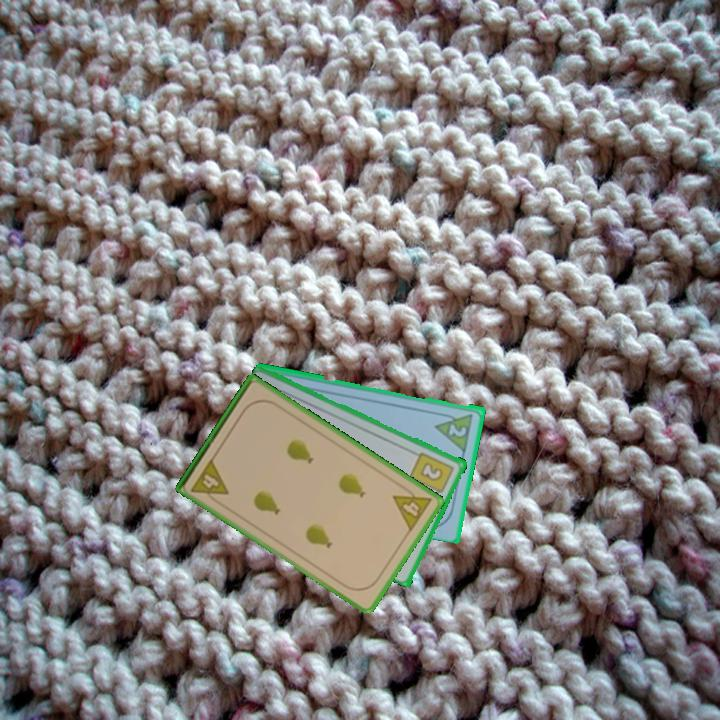2b: (407, 448, 457, 501)
2p: (445, 419, 470, 439)
4p: (389, 481, 435, 534), (187, 455, 232, 507)
